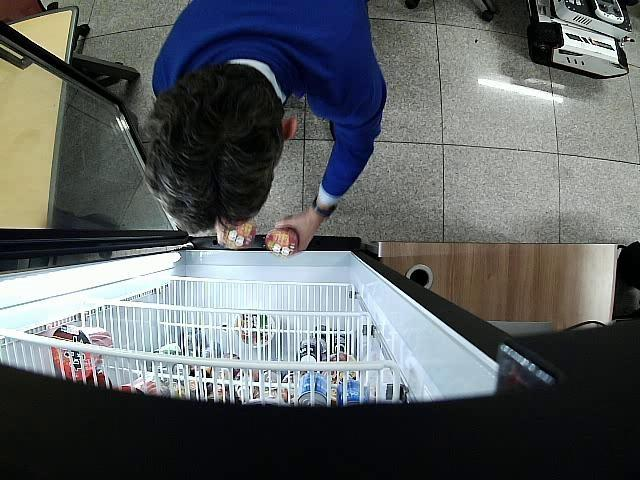06_nuguri_S: (266, 227, 298, 259), (225, 221, 256, 249)
